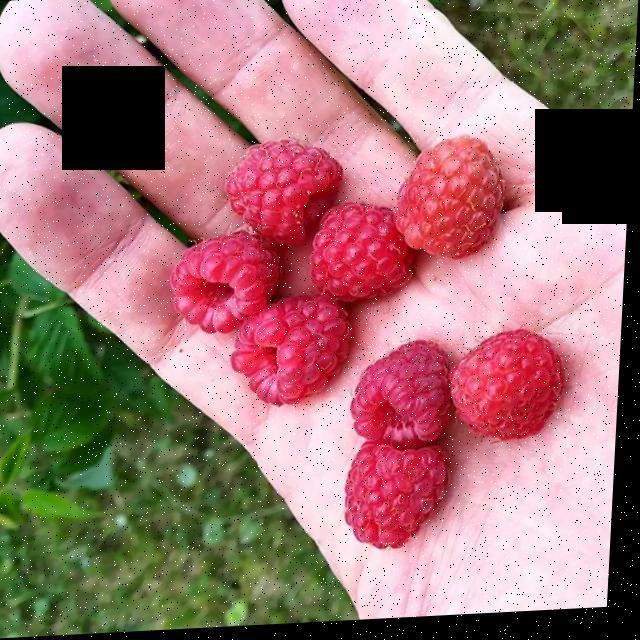blackberry: (155, 87, 582, 545)
